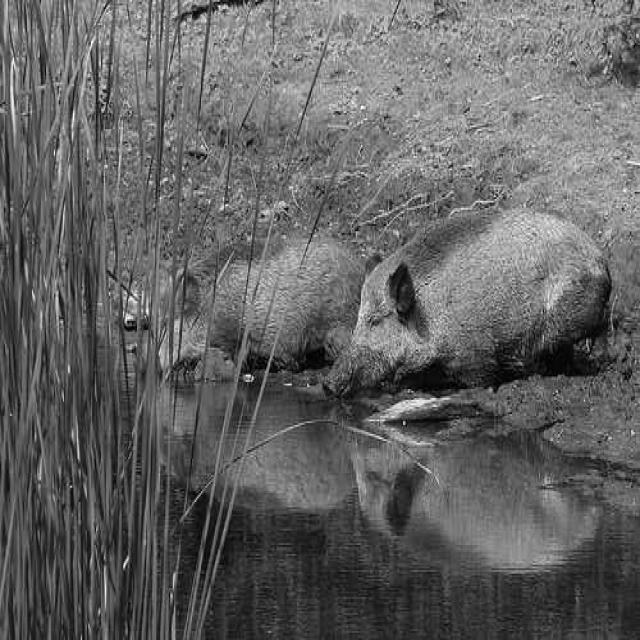boar: (323, 208, 608, 393), (150, 242, 365, 374)
